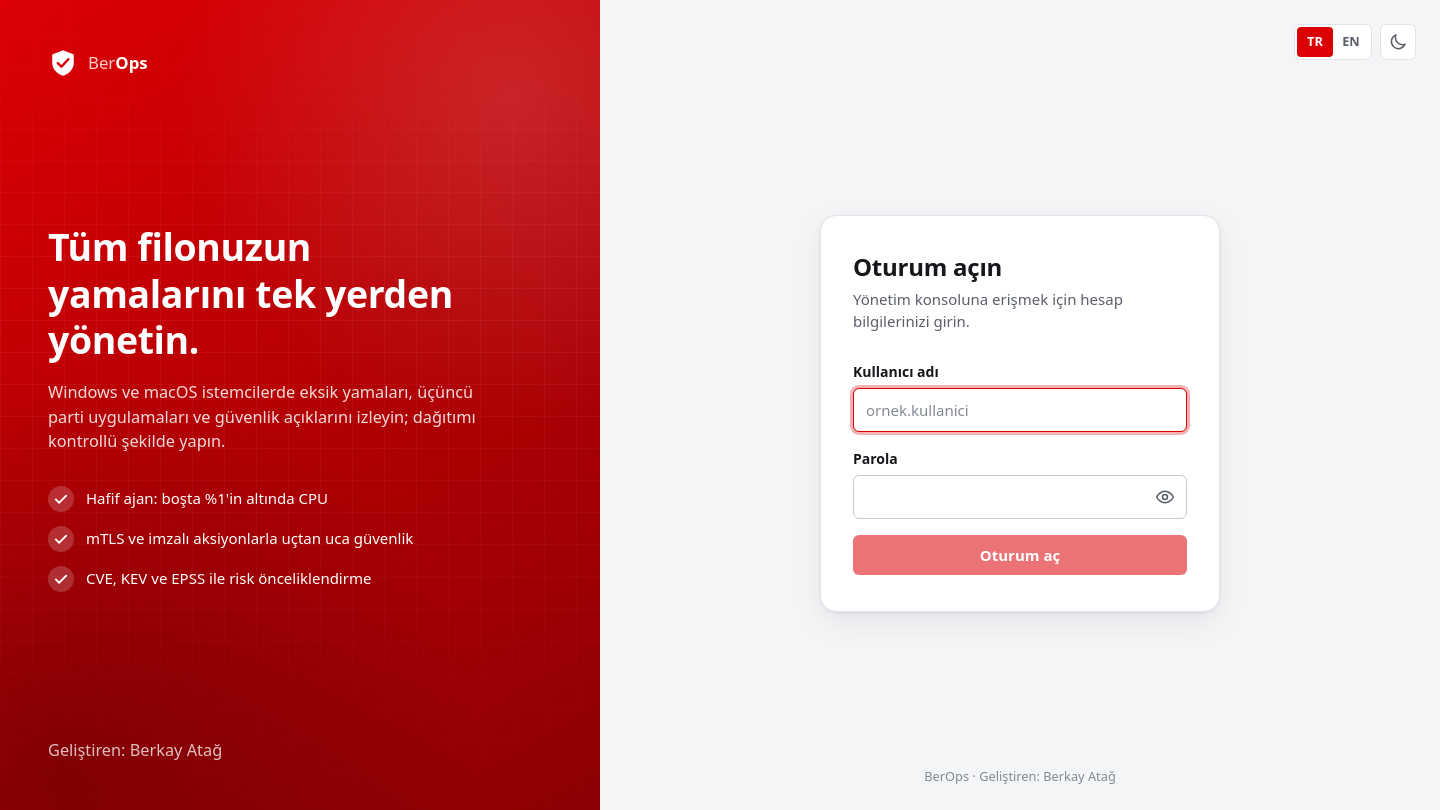
Test case: giriş ekranı › hatalı parolada API hata koduna karşılık gelen mesajı gösterir
Type "admin" into the field labelled "Kullanıcı adı" at (1020, 410), box [853,388,1187,432]
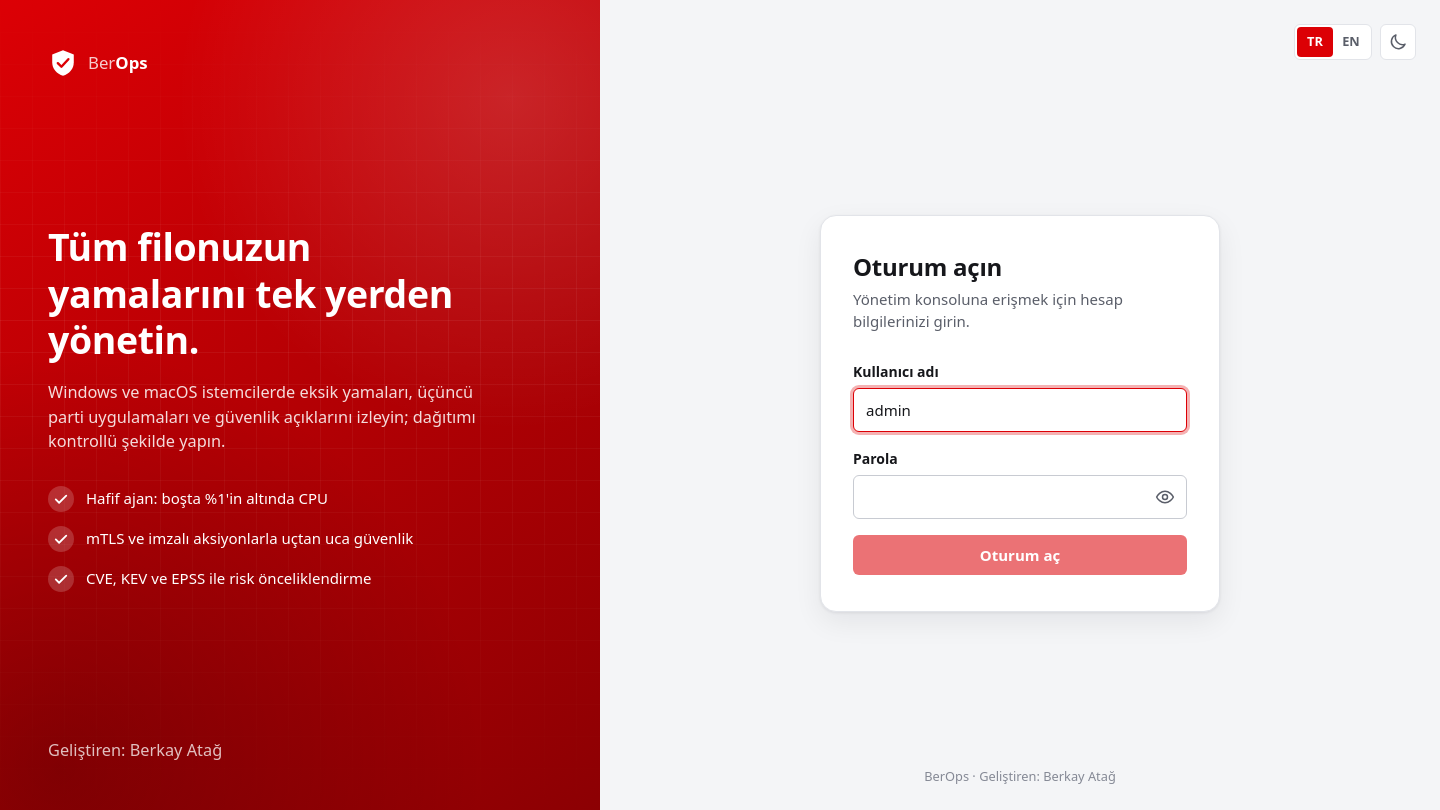
Type "yanlis" into the password field labelled "Parola" at (1020, 497), box [853,475,1187,519]
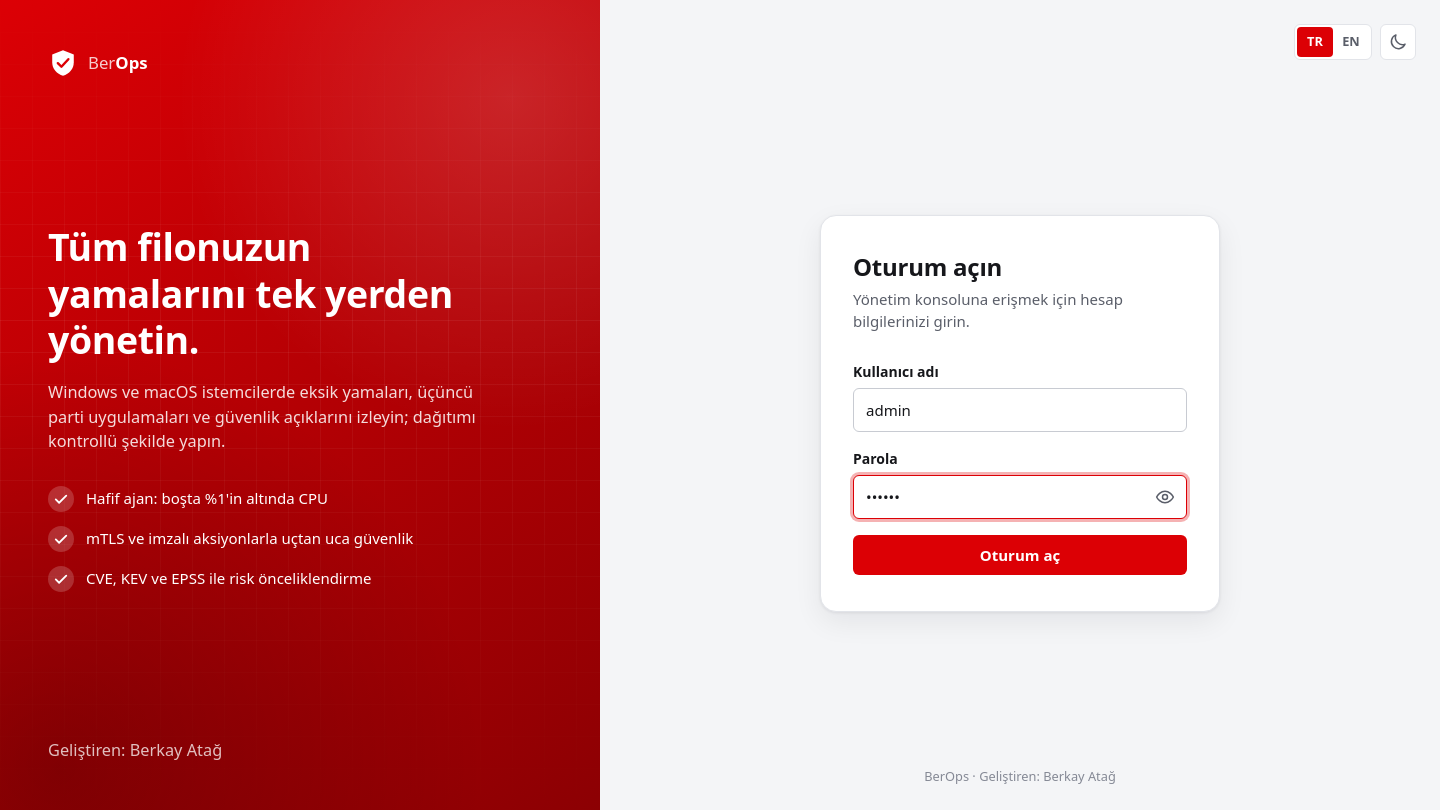
Click the button "Oturum aç" at (1020, 555), box [853,535,1187,575]
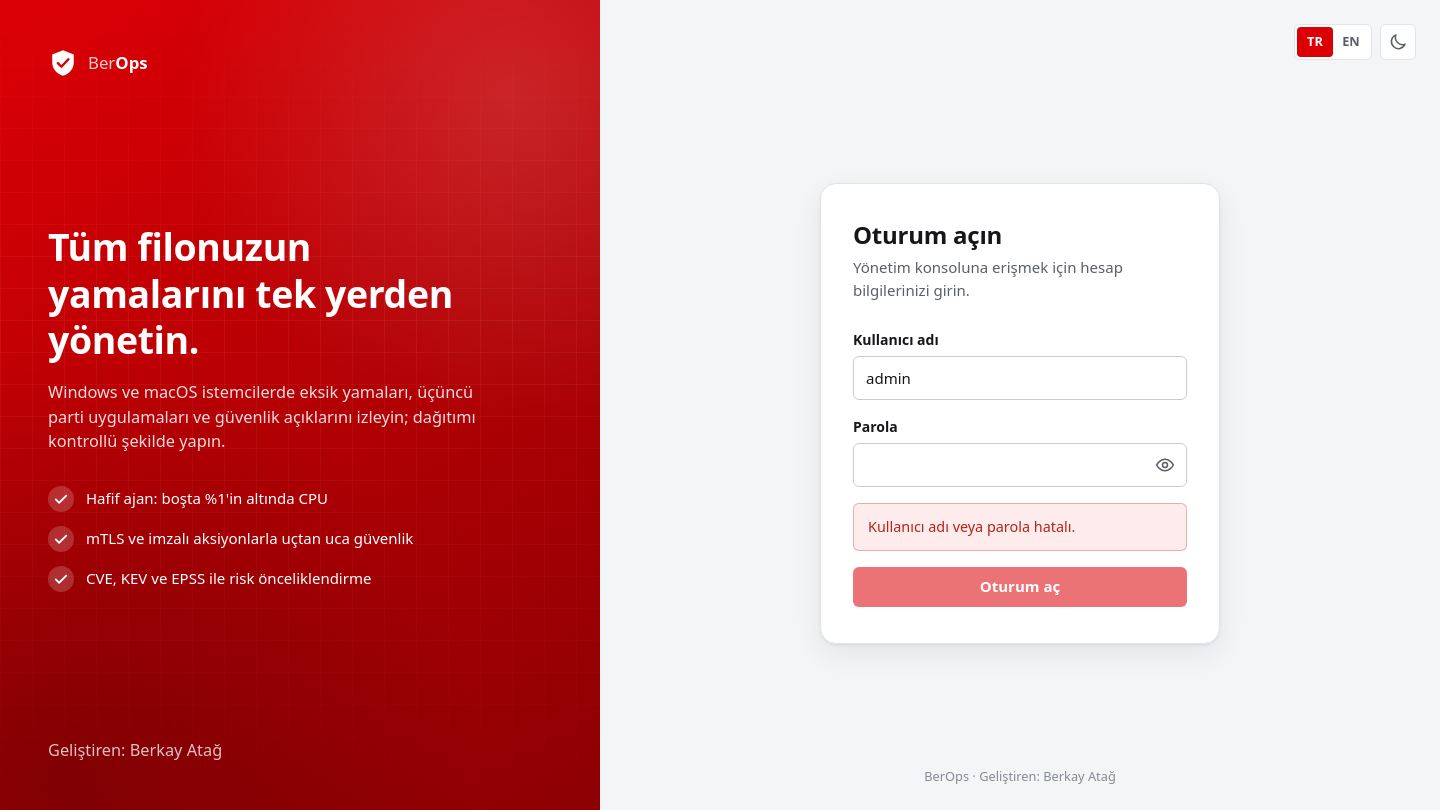
Check: the message reads "Kullanıcı adı veya parola hatalı.", box [868,517,1075,536]
Check: the password field labelled "Parola" is empty, box [853,443,1187,487]
